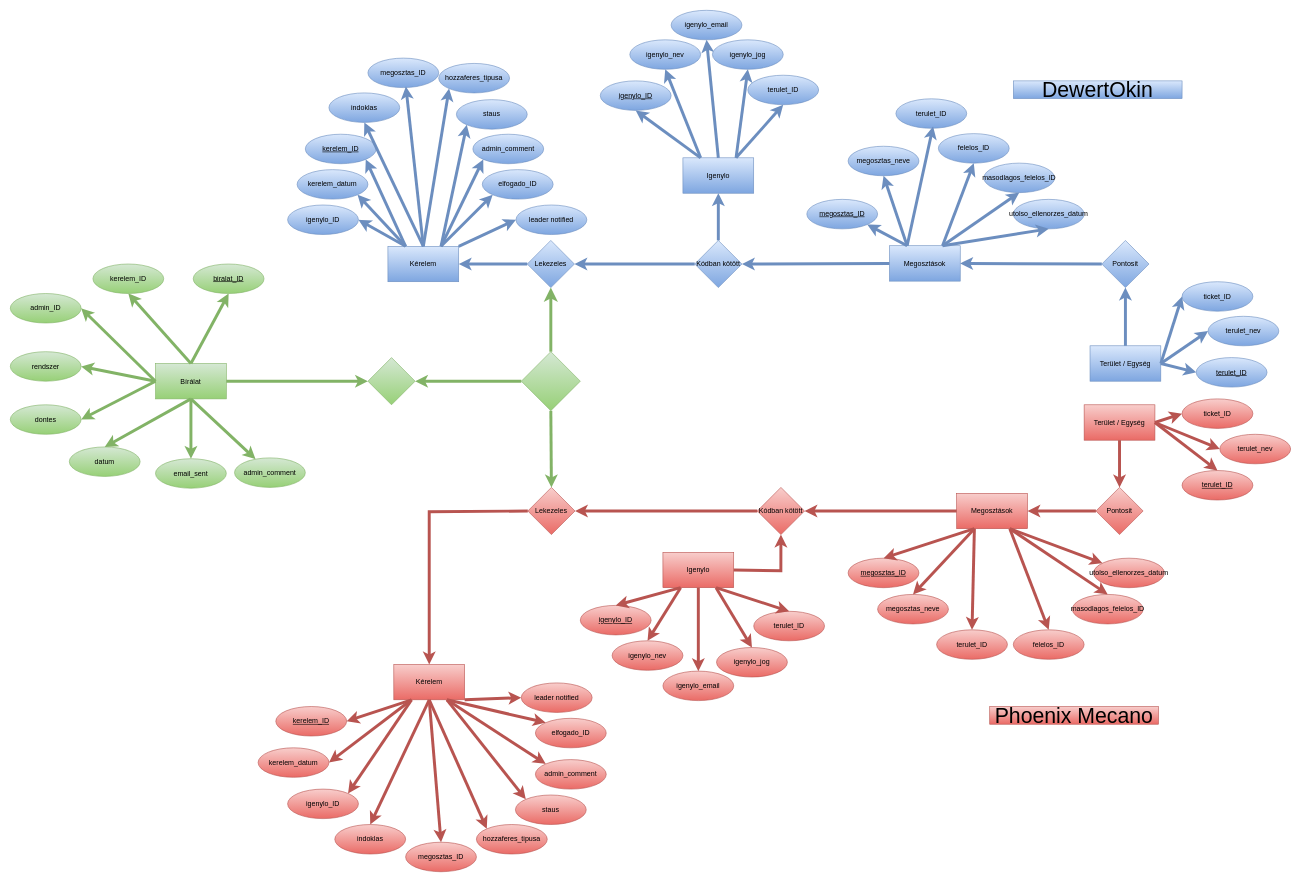
Image size: 1301x882. Some labels were removed from this diagram. The shapes that lost their labels are listed below. From the top down, each one's box as (x1, y1, x2, y2) in pixels, then its label:
(367, 357, 415, 405): Riportok
(521, 351, 580, 411): Cég táblázat kódban
